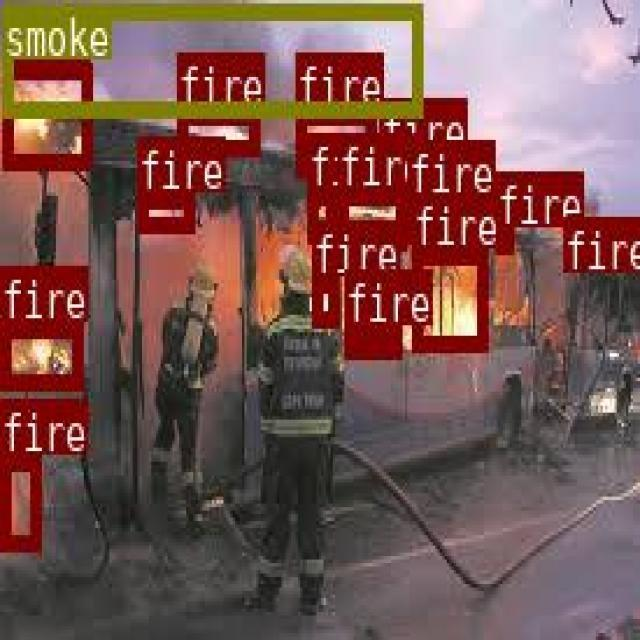fire: (2, 60, 90, 167), (411, 246, 485, 348), (0, 319, 81, 386), (293, 107, 374, 174), (338, 188, 405, 245), (176, 108, 257, 152), (0, 451, 37, 546), (407, 195, 483, 238), (137, 193, 191, 231), (343, 322, 400, 356), (306, 187, 334, 240), (561, 217, 607, 249), (310, 274, 336, 322), (378, 152, 394, 185), (495, 225, 511, 250)
smoke: (0, 2, 419, 116)
